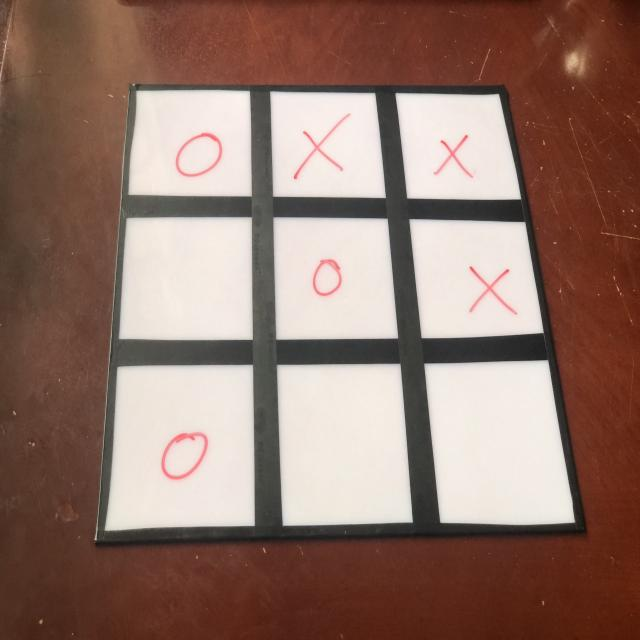null: (418, 346, 576, 544), (276, 361, 410, 529), (115, 215, 255, 342)
o: (157, 429, 208, 482), (175, 130, 225, 183), (306, 254, 349, 302)
table: (87, 74, 581, 538)
x: (292, 114, 351, 179), (470, 260, 519, 319), (429, 130, 478, 183)
